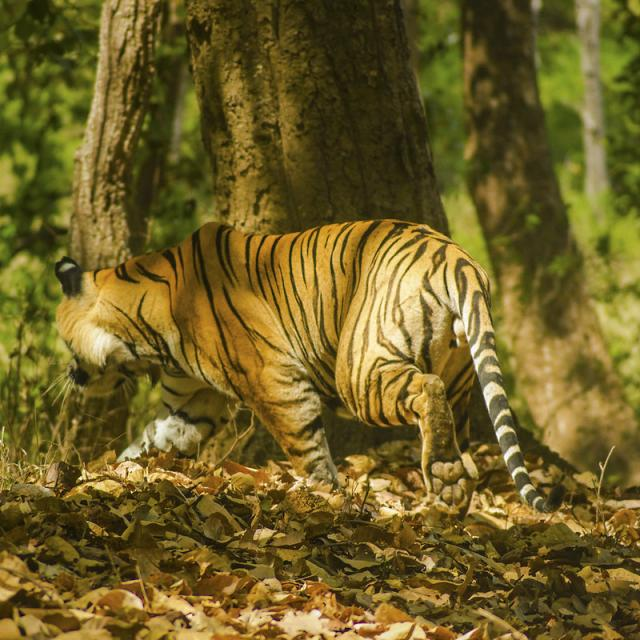Tiger: (55, 218, 548, 511)
